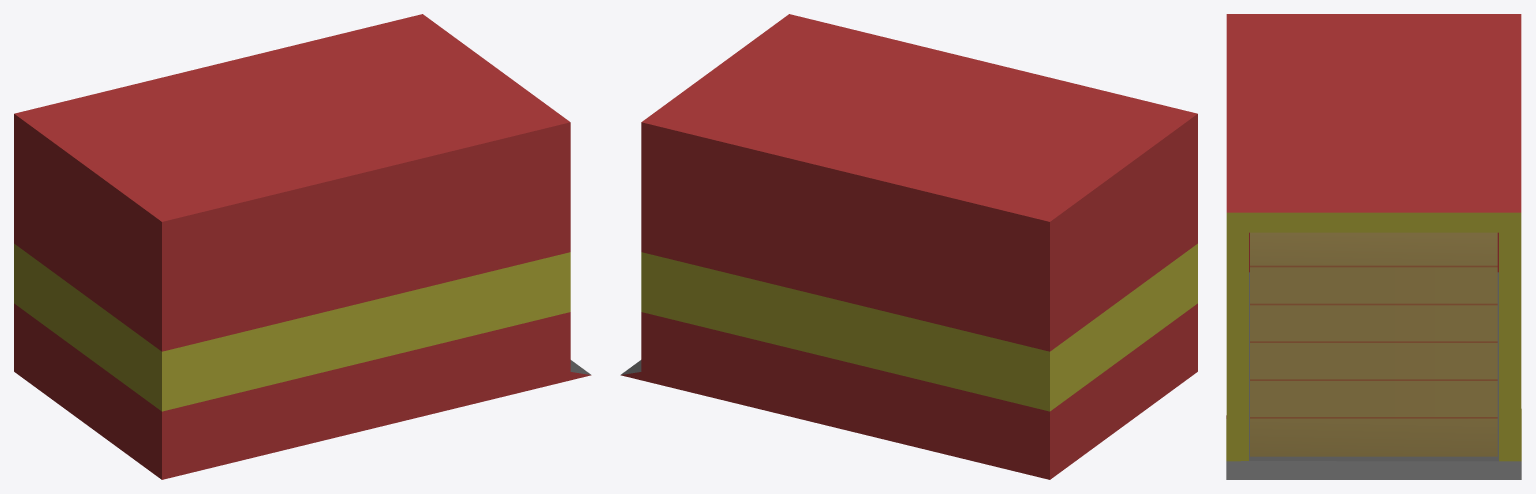
File: Garaje.FBX
3 renders of one model, left to right at view 1: azimuth 30°, elevation 25°; view 2: azimuth 150°, elevation 25°; view 3: azimuth 270°, elevation 25°, orthographic.
Parts seen in each view (by area): view 1: Garaje; view 2: Garaje; view 3: Garaje, Puerta.
Part boxes in pixels (box(x1,y1,x2,y2)): Garaje: box(14, 14, 591, 479); Garaje: box(620, 14, 1197, 479); Garaje: box(1226, 14, 1521, 479); Puerta: box(1250, 232, 1497, 456).
Size of the model in its own units: 60.61 by 36.18 by 34.77.
